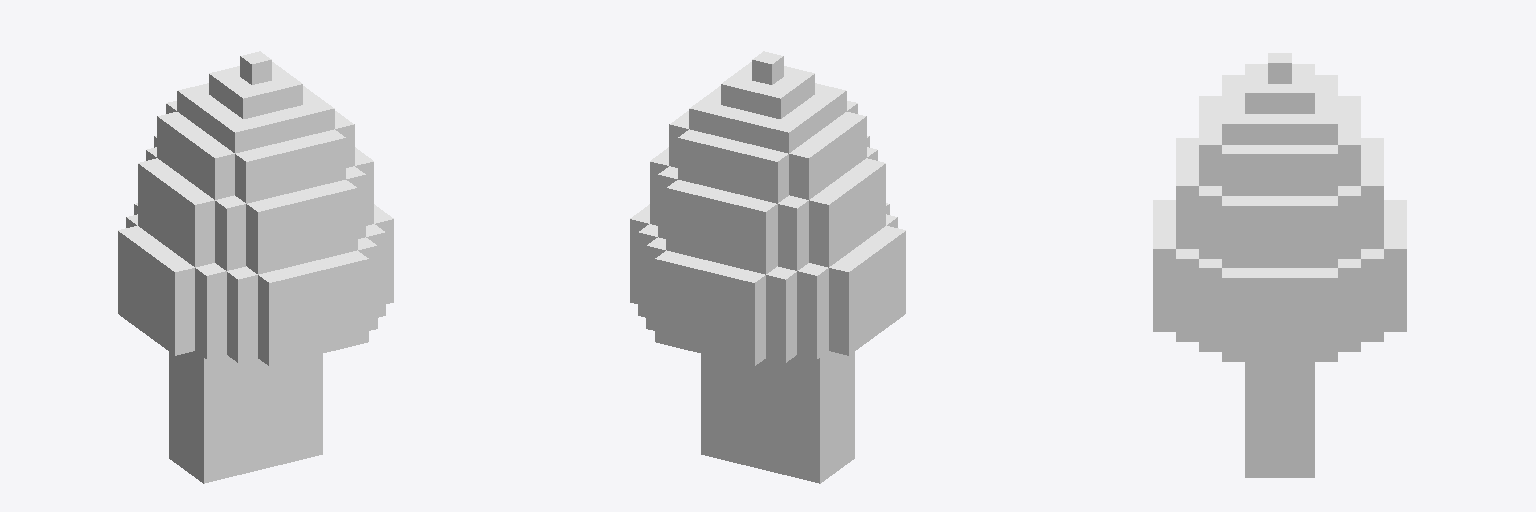
File: Eruption-10.obj
3 renders of one model, left to right at view 1: azimuth 30°, elevation 25°; view 2: azimuth 150°, elevation 25°; view 3: azimuth 270°, elevation 25°, orthographic.
Parts seen in each view (by area): view 1: object 1; view 2: object 1; view 3: object 1.
Part boxes in pixels (x1,y1,x2,y2): object 1: (118, 51, 393, 483); object 1: (630, 51, 905, 483); object 1: (1153, 53, 1406, 477).
Size of the model in its own units: 1.1 by 1.9 by 1.1.